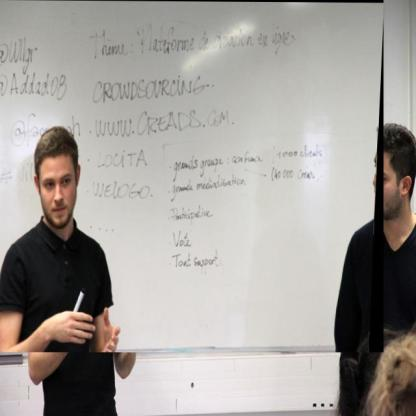Handwritten text: (6, 29, 311, 69), (169, 141, 324, 201), (10, 106, 244, 143), (6, 66, 220, 104), (77, 173, 157, 211), (72, 150, 155, 175), (169, 247, 233, 275), (158, 202, 220, 229), (164, 227, 204, 248)
Lecturer: (0, 122, 142, 352)
Whiteboard: (0, 1, 382, 364)
